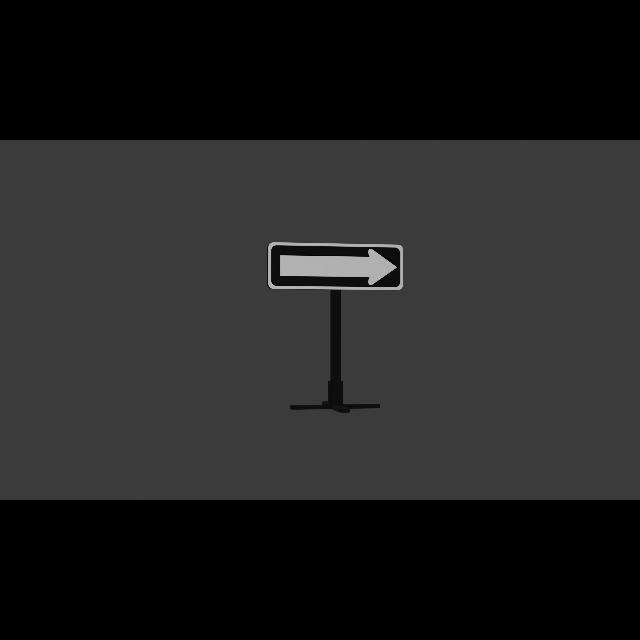sign_oneway_right: (268, 243, 405, 292)
